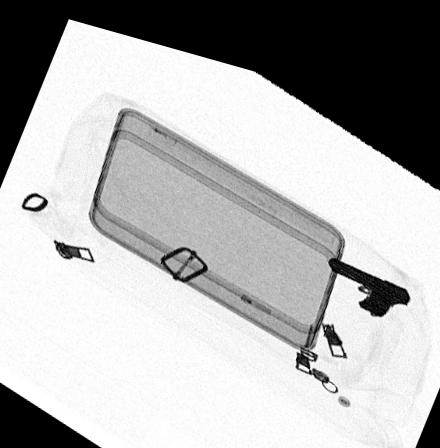Gun: (327, 238, 408, 296)
